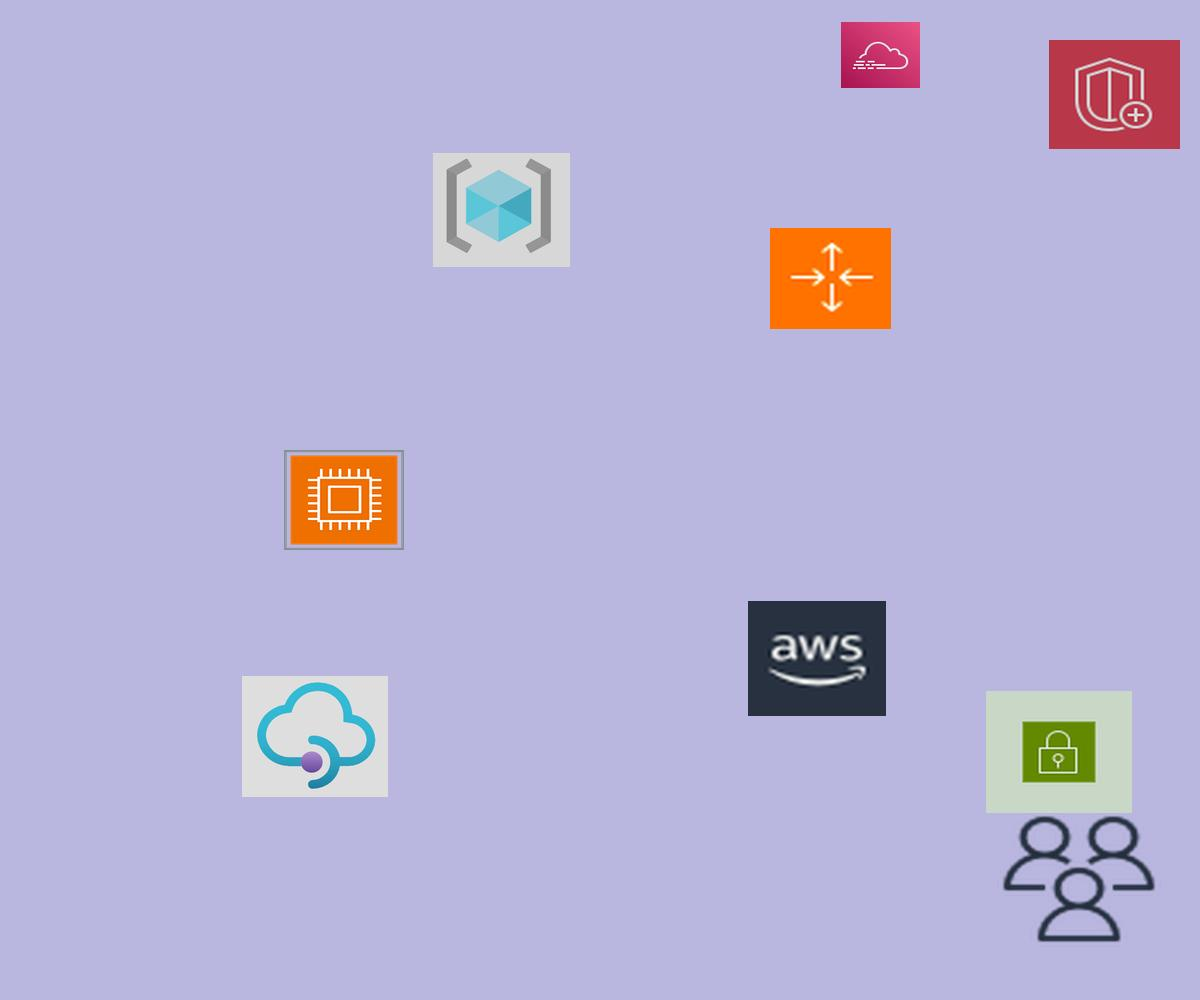AWS-Category_Compute: (284, 450, 404, 550)
AWS-Cloud-logo: (748, 601, 886, 716)
AWS-CloudTrail: (841, 22, 920, 88)
AWS-Public-subnet: (986, 691, 1132, 813)
AWS-Res_Users: (997, 811, 1161, 947)
AWS-Scaling-group: (770, 228, 891, 329)
AWS-Shield: (1049, 40, 1180, 149)
Azure_api_gateway: (242, 676, 388, 797)
Azure_resource_group: (433, 153, 570, 267)
